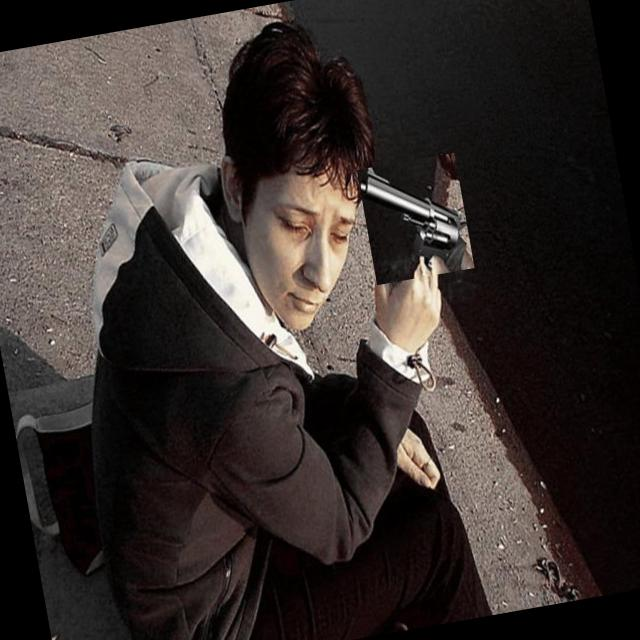Gun: (360, 168, 466, 271)
